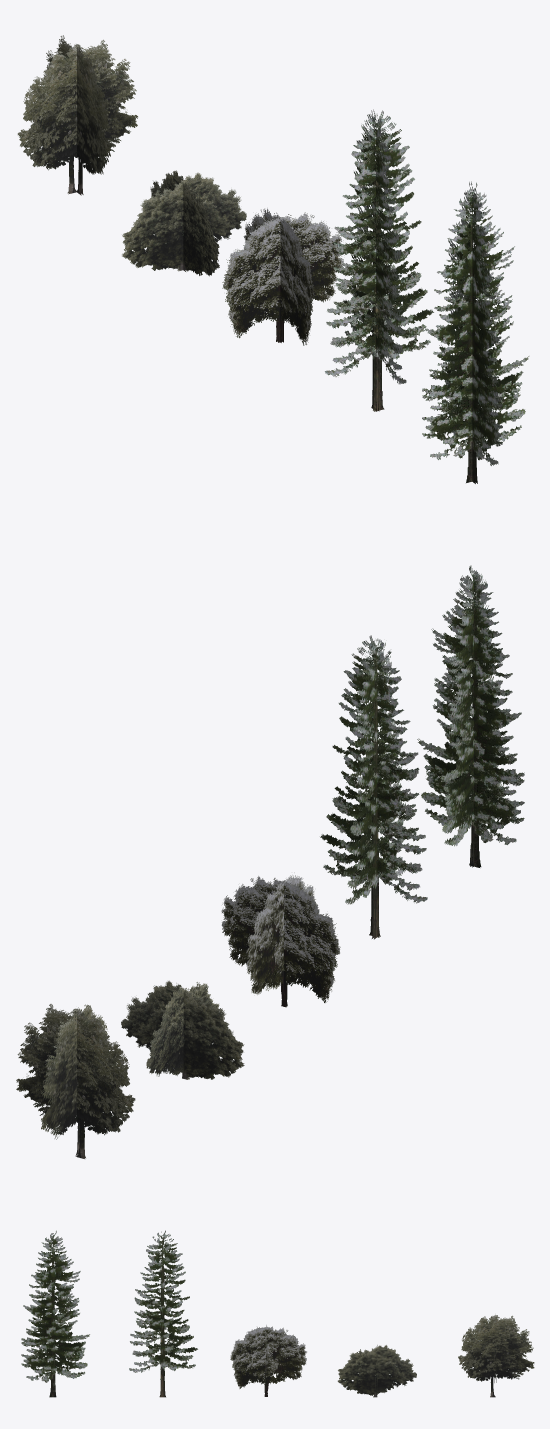
The model's file is alp_vegetation2.fbx.
The picture shows the model from 3 angles, top to bottom: view 1: azimuth 30°, elevation 25°; view 2: azimuth 150°, elevation 25°; view 3: azimuth 270°, elevation 25°; orthographic projection. The views are drawn at different scales.
Visible parts, largest first — view 1: Object09, Object08, Object010, Object03, Object07; view 2: Object09, Object08, Object010, Object03, Object07; view 3: Object09, Object08, Object010, Object03, Object07.
Boxes of the visible parts, x1,y1,x2,y2 form: Object09: (422,181,529,483); Object08: (325,109,433,411); Object010: (17,35,137,195); Object03: (222,208,343,345); Object07: (122,170,246,276); Object09: (417,565,524,867); Object08: (320,635,427,939); Object010: (16,1004,135,1158); Object03: (221,872,340,1007); Object07: (121,980,244,1079); Object09: (21,1230,89,1397); Object08: (129,1230,197,1397); Object010: (458,1314,534,1397); Object03: (230,1325,306,1396); Object07: (337,1345,416,1397).
Size of the model in its own units: 13.11 by 29.9 by 83.71.
Materials: 1 (1 with a texture image).
